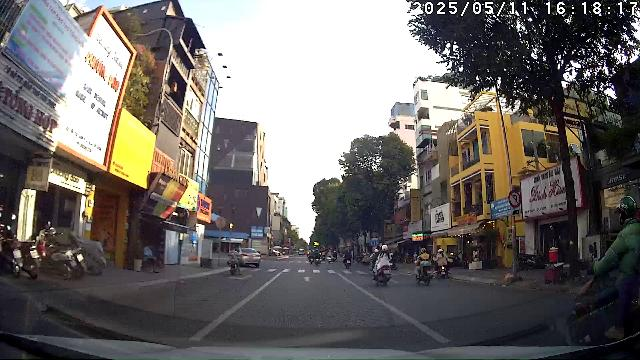123a-cam-re-trai: (508, 190, 522, 208)
